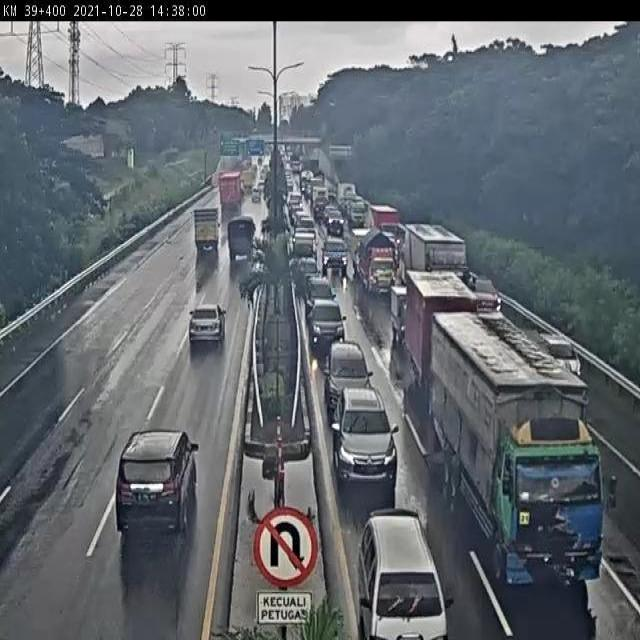ARABA: (321, 234, 349, 274)
KAMYONET: (357, 227, 397, 294), (228, 219, 255, 261), (195, 211, 220, 253)
TIR: (432, 314, 600, 586), (405, 226, 474, 302)
